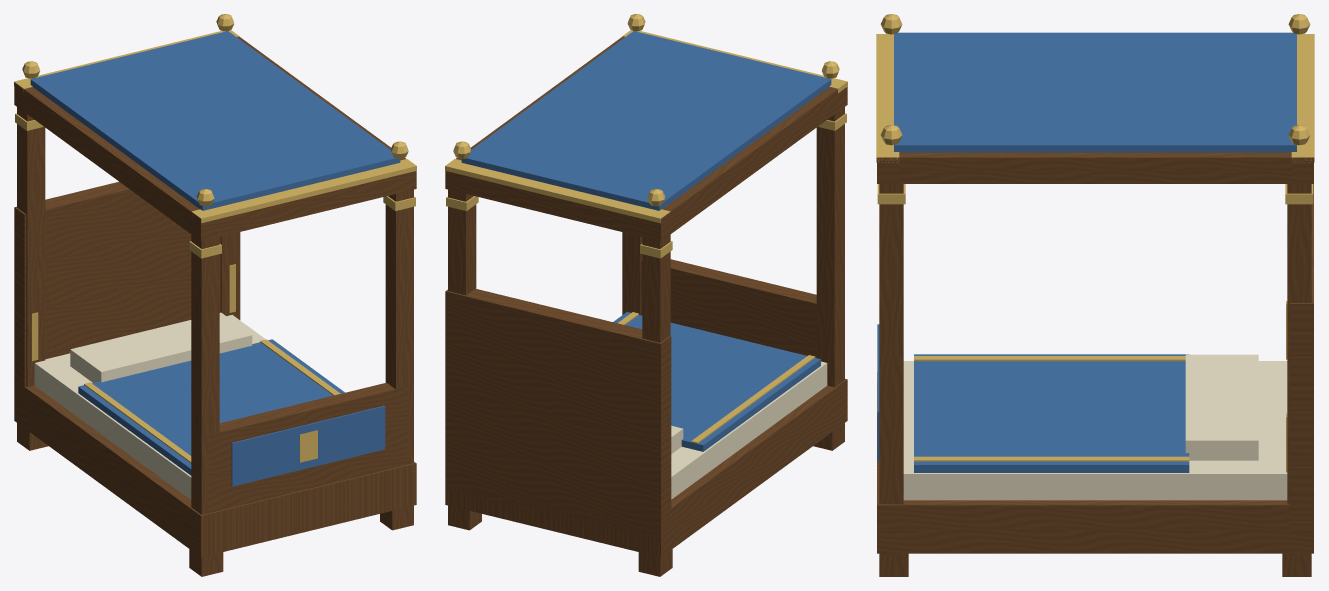
Rendered from royal-bed.glb.
The picture shows the model from 3 angles, left to right: view 1: azimuth 30°, elevation 25°; view 2: azimuth 150°, elevation 25°; view 3: azimuth 270°, elevation 25°; orthographic projection. The views are drawn at different scales.
Visible parts, largest first — view 1: Royal blue canopy, Headboard, Bed frame, Blanket, Raised footboard, Carved royal bed post, Footboard blue inset, Carved royal bed post.002, Pillow, Carved royal bed post.001, Canopy side rail, Mattress (+10 smaller); view 2: Headboard, Royal blue canopy, Bed frame, Blanket, Raised footboard, Carved royal bed post, Canopy side rail, Mattress, Canopy end rail.001, Golden canopy trim.001, Carved royal bed post.001, Carved royal bed post.003 (+6 smaller); view 3: Royal blue canopy, Blanket, Bed frame, Mattress, Canopy side rail.001, Pillow, Carved royal bed post.002, Headboard, Carved royal bed post.003, Golden canopy trim, Golden canopy trim.001, Gold woven blanket border.001 (+5 smaller).
Part boxes in pixels (x1=…): Royal blue canopy: x1=30, y1=31, x2=400, y2=210; Headboard: x1=14, y1=181, x2=240, y2=411; Bed frame: x1=14, y1=379, x2=416, y2=557; Blanket: x1=78, y1=339, x2=344, y2=475; Raised footboard: x1=207, y1=382, x2=408, y2=513; Carved royal bed post: x1=191, y1=234, x2=219, y2=557; Footboard blue inset: x1=231, y1=405, x2=385, y2=486; Carved royal bed post.002: x1=385, y1=189, x2=413, y2=507; Pillow: x1=70, y1=312, x2=252, y2=382; Carved royal bed post.001: x1=17, y1=107, x2=45, y2=429; Canopy side rail: x1=23, y1=87, x2=199, y2=236; Mattress: x1=34, y1=315, x2=265, y2=499; Headboard: x1=445, y1=288, x2=671, y2=540; Royal blue canopy: x1=461, y1=31, x2=831, y2=210; Bed frame: x1=445, y1=379, x2=847, y2=557; Blanket: x1=613, y1=312, x2=820, y2=451; Raised footboard: x1=641, y1=259, x2=816, y2=357; Carved royal bed post: x1=816, y1=107, x2=844, y2=429; Canopy side rail: x1=662, y1=87, x2=847, y2=235; Mattress: x1=671, y1=361, x2=827, y2=499; Canopy end rail.001: x1=445, y1=171, x2=670, y2=241; Golden canopy trim.001: x1=445, y1=159, x2=670, y2=223; Carved royal bed post.001: x1=642, y1=234, x2=670, y2=557; Carved royal bed post.003: x1=448, y1=189, x2=476, y2=295; Royal blue canopy: x1=894, y1=32, x2=1296, y2=152; Blanket: x1=914, y1=354, x2=1189, y2=472; Bed frame: x1=877, y1=415, x2=1313, y2=553; Mattress: x1=903, y1=361, x2=1287, y2=500; Canopy side rail.001: x1=877, y1=152, x2=1313, y2=183; Pillow: x1=1185, y1=354, x2=1258, y2=460; Carved royal bed post.002: x1=879, y1=184, x2=903, y2=554; Headboard: x1=1289, y1=184, x2=1313, y2=534; Carved royal bed post.003: x1=1287, y1=184, x2=1311, y2=554; Golden canopy trim: x1=876, y1=34, x2=899, y2=162; Golden canopy trim.001: x1=1291, y1=34, x2=1314, y2=162; Gold woven blanket border.001: x1=914, y1=456, x2=1189, y2=461.
Size of the model in its own units: 1.2 by 2.03 by 1.81.
Materials: 4 (1 with a texture image).
